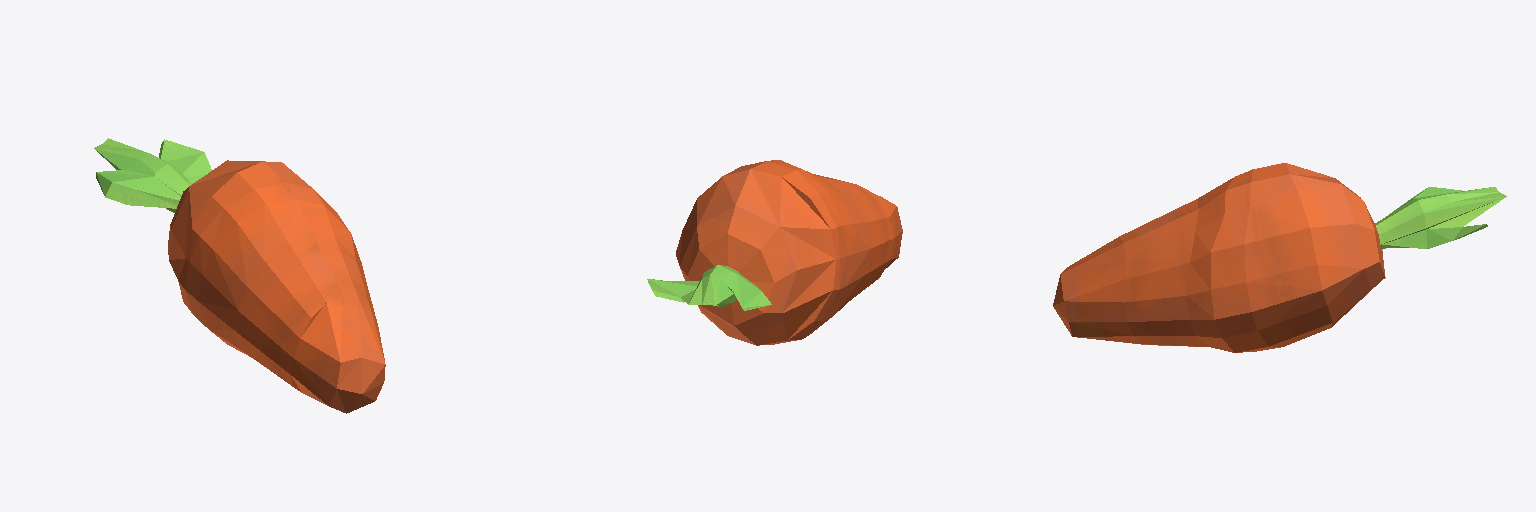
3 views of the same model, side by side, from view 1: azimuth 30°, elevation 25°; view 2: azimuth 150°, elevation 25°; view 3: azimuth 270°, elevation 25° (orthographic).
Parts seen in each view (by area): view 1: frosty_nariz; view 2: frosty_nariz; view 3: frosty_nariz.
Boxes of the visible parts, box(x1,y1,x2,y2) form: frosty_nariz: box(94, 138, 385, 413); frosty_nariz: box(647, 160, 902, 345); frosty_nariz: box(1053, 163, 1506, 352).
Bounding box in the file's own units: 0.1146 × 0.1239 × 0.2904.
1 materials, 1 textured.